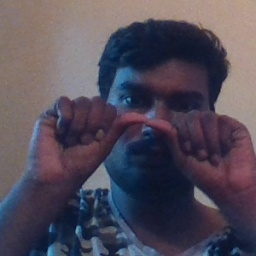A: (70, 94, 219, 200)
